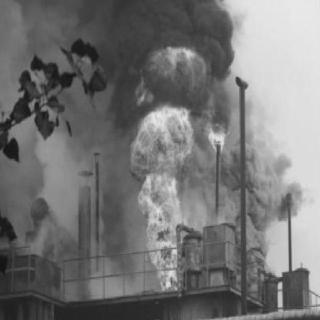Smoke: (86, 0, 240, 53)
